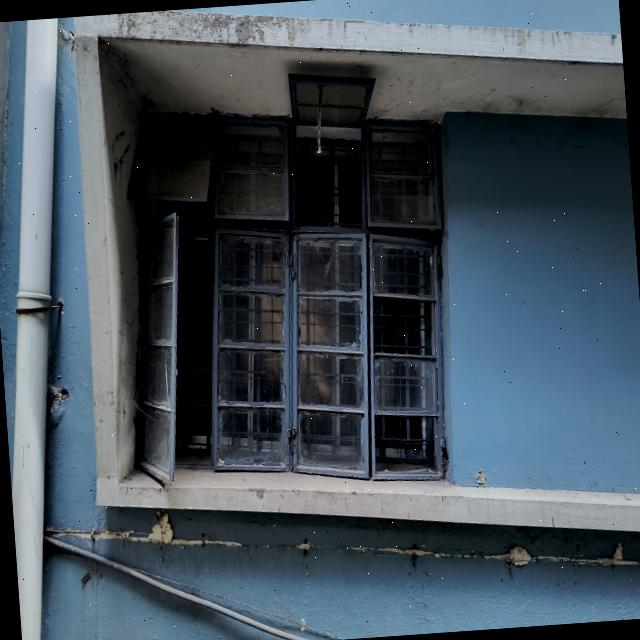stain_mould: (74, 11, 623, 67)
